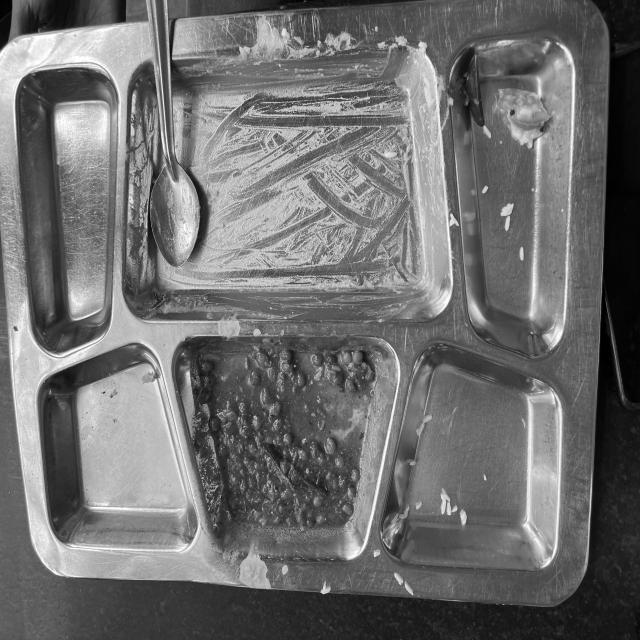Empty-Plate: (13, 39, 574, 582)
